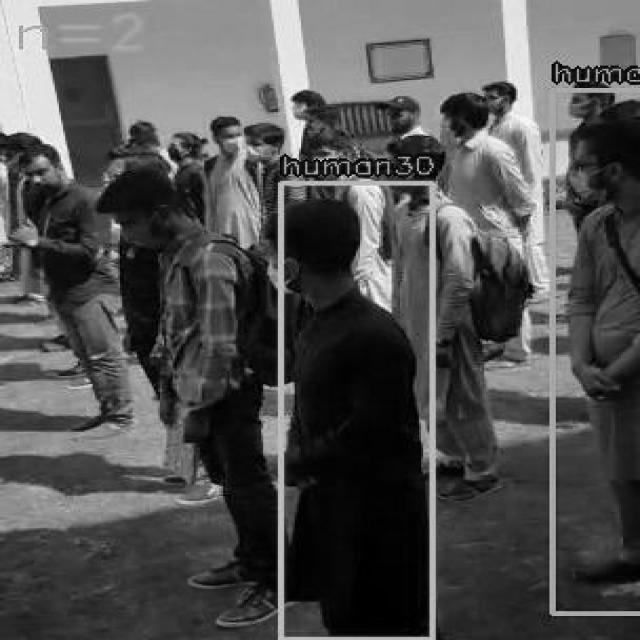person: (278, 181, 432, 638), (549, 88, 640, 613)
